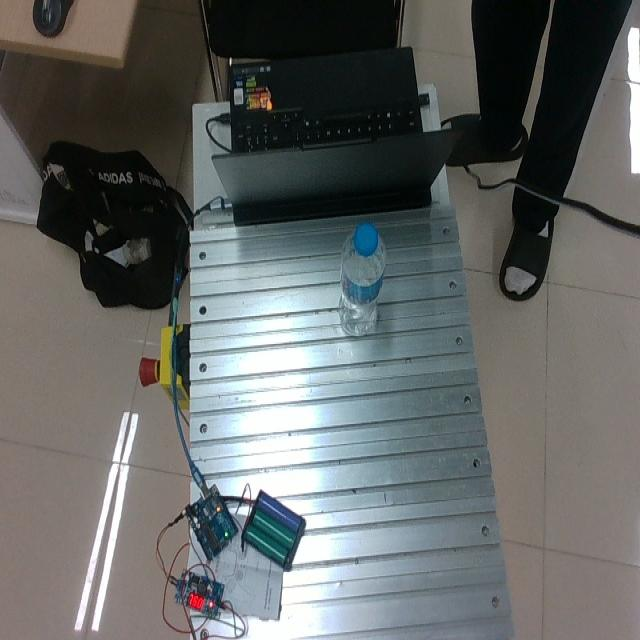lavie: (338, 224, 384, 336)
